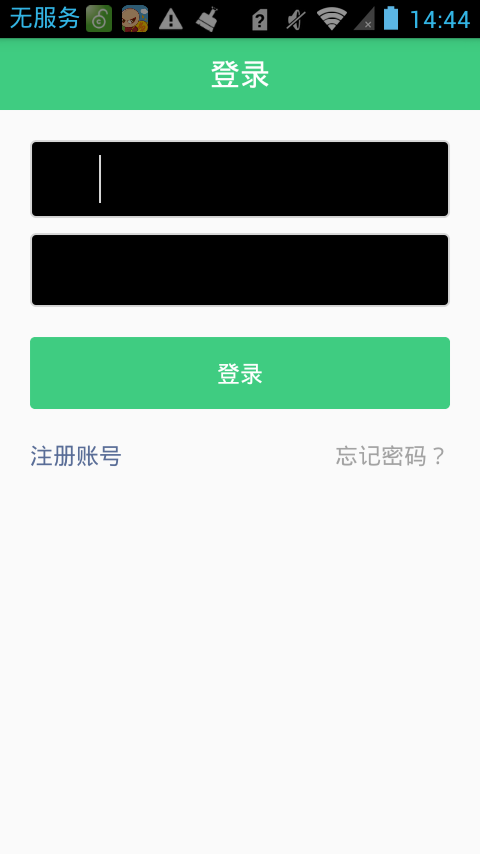button: (22, 331, 458, 415)
textview: (25, 135, 452, 222)
